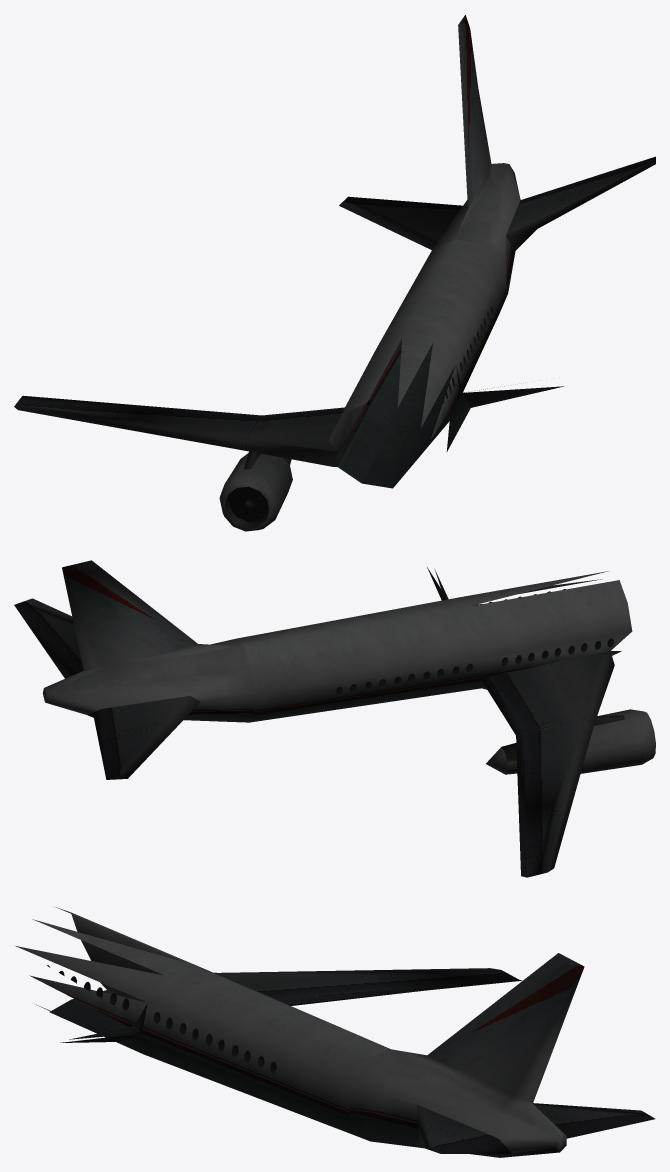
Rendered from cell_21_-23.gltf.
3 renders of one model, top to bottom at view 1: azimuth 30°, elevation 25°; view 2: azimuth 150°, elevation 25°; view 3: azimuth 270°, elevation 25°, orthographic. The views are drawn at different scales.
Visible parts, largest first — view 1: cell_21_-23; view 2: cell_21_-23; view 3: cell_21_-23.
Boxes of the visible parts, <box> form: cell_21_-23: <box>14,15,655,531</box>; cell_21_-23: <box>14,560,655,877</box>; cell_21_-23: <box>14,907,655,1157</box>.
Bounding box in the file's own units: 68.79 × 28.48 × 59.89.
Materials: 3 (3 with a texture image).
